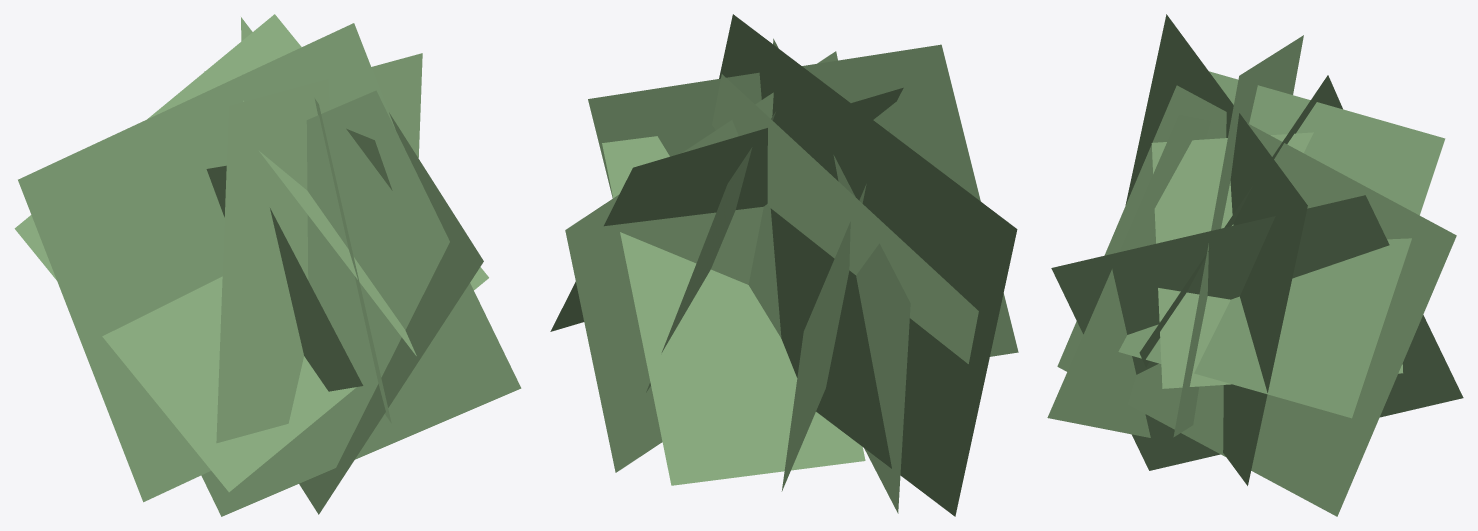
Rendered from touffe_laurier.glb.
3 views of the same model, side by side, from view 1: azimuth 30°, elevation 25°; view 2: azimuth 150°, elevation 25°; view 3: azimuth 270°, elevation 25° (orthographic). The views are drawn at different scales.
Visible parts, largest first — view 1: touffe_laurier; view 2: touffe_laurier; view 3: touffe_laurier.
Part boxes in pixels (x1=…): touffe_laurier: x1=14, y1=14, x2=521, y2=516; touffe_laurier: x1=550, y1=14, x2=1018, y2=516; touffe_laurier: x1=1047, y1=14, x2=1463, y2=516.
Size of the model in its own units: 0.9071 by 0.9273 by 0.7868.
